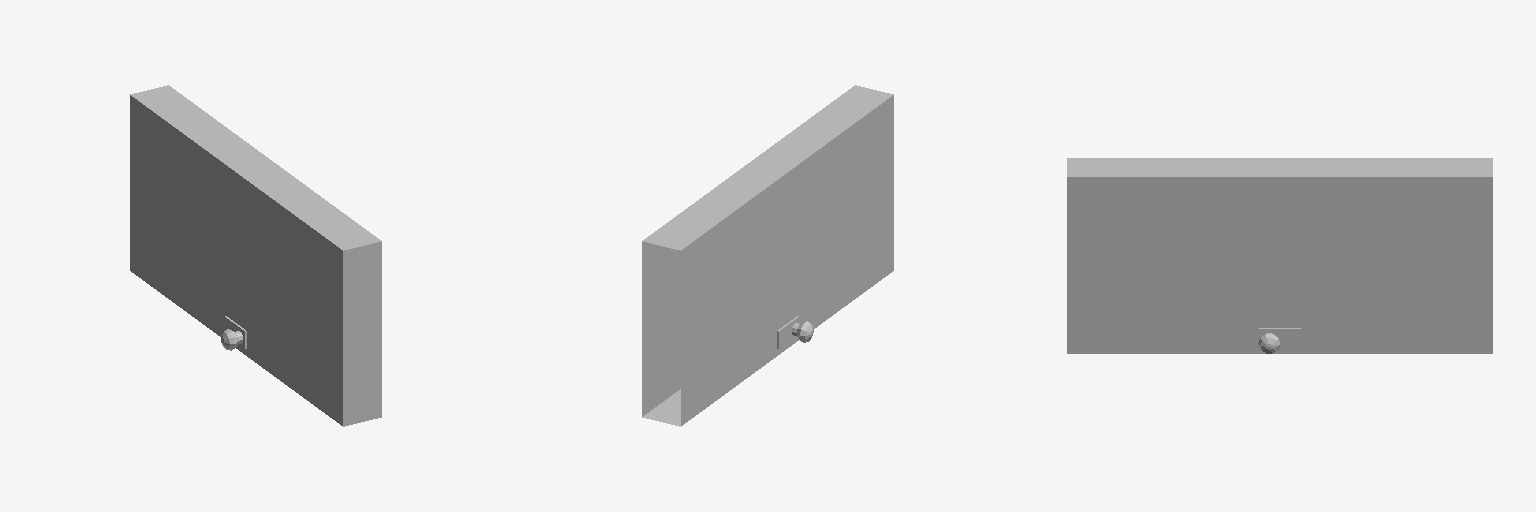
Rendered from f_Door(open_Max).obj.
3 renders of one model, left to right at view 1: azimuth 30°, elevation 25°; view 2: azimuth 150°, elevation 25°; view 3: azimuth 270°, elevation 25°, orthographic.
Visible parts, largest first — view 1: Door.001; view 2: Door.001; view 3: Door.001.
Part boxes in pixels (left/top/right/bottom): Door.001: left=130, top=85, right=381, bottom=426; Door.001: left=642, top=85, right=893, bottom=426; Door.001: left=1067, top=158, right=1492, bottom=353.
Size of the model in its own units: 4 by 8.65 by 19.